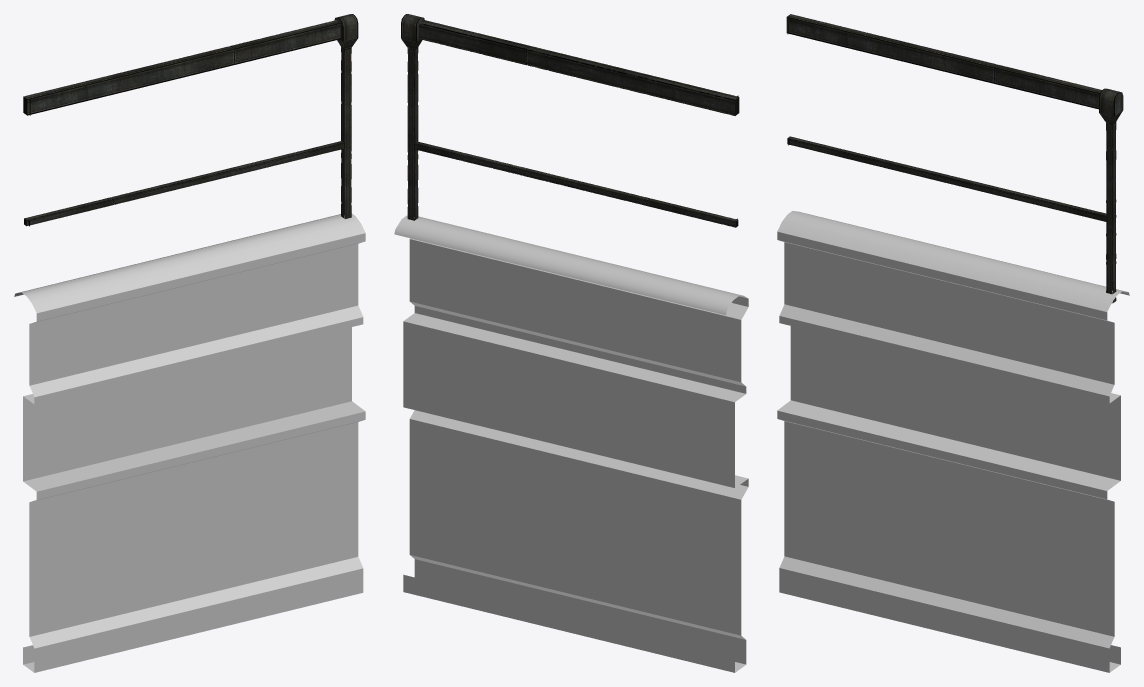
File: engineroom_balcony_straight_small.DAE
The picture shows the model from 3 angles, left to right: view 1: azimuth 30°, elevation 25°; view 2: azimuth 150°, elevation 25°; view 3: azimuth 330°, elevation 25°; orthographic projection.
Parts seen in each view (by area): view 1: balcony_straight_metal024, balcony_straight_bricks009, balcony_straight_rail003; view 2: balcony_straight_metal024, balcony_straight_bricks009, balcony_straight_rail003; view 3: balcony_straight_metal024, balcony_straight_bricks009, balcony_straight_rail003.
Part boxes in pixels (x1=…): balcony_straight_metal024: x1=14, y1=213, x2=365, y2=672; balcony_straight_bricks009: x1=23, y1=327, x2=351, y2=481; balcony_straight_rail003: x1=23, y1=14, x2=358, y2=226; balcony_straight_metal024: x1=394, y1=215, x2=748, y2=672; balcony_straight_bricks009: x1=403, y1=321, x2=734, y2=487; balcony_straight_rail003: x1=401, y1=14, x2=739, y2=227; balcony_straight_metal024: x1=777, y1=211, x2=1129, y2=672; balcony_straight_bricks009: x1=790, y1=326, x2=1120, y2=480; balcony_straight_rail003: x1=786, y1=14, x2=1123, y2=303.
Size of the model in its own units: 2 by 3.32 by 0.2367.
